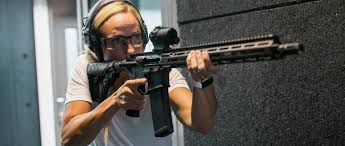gun: (153, 28, 305, 131)
